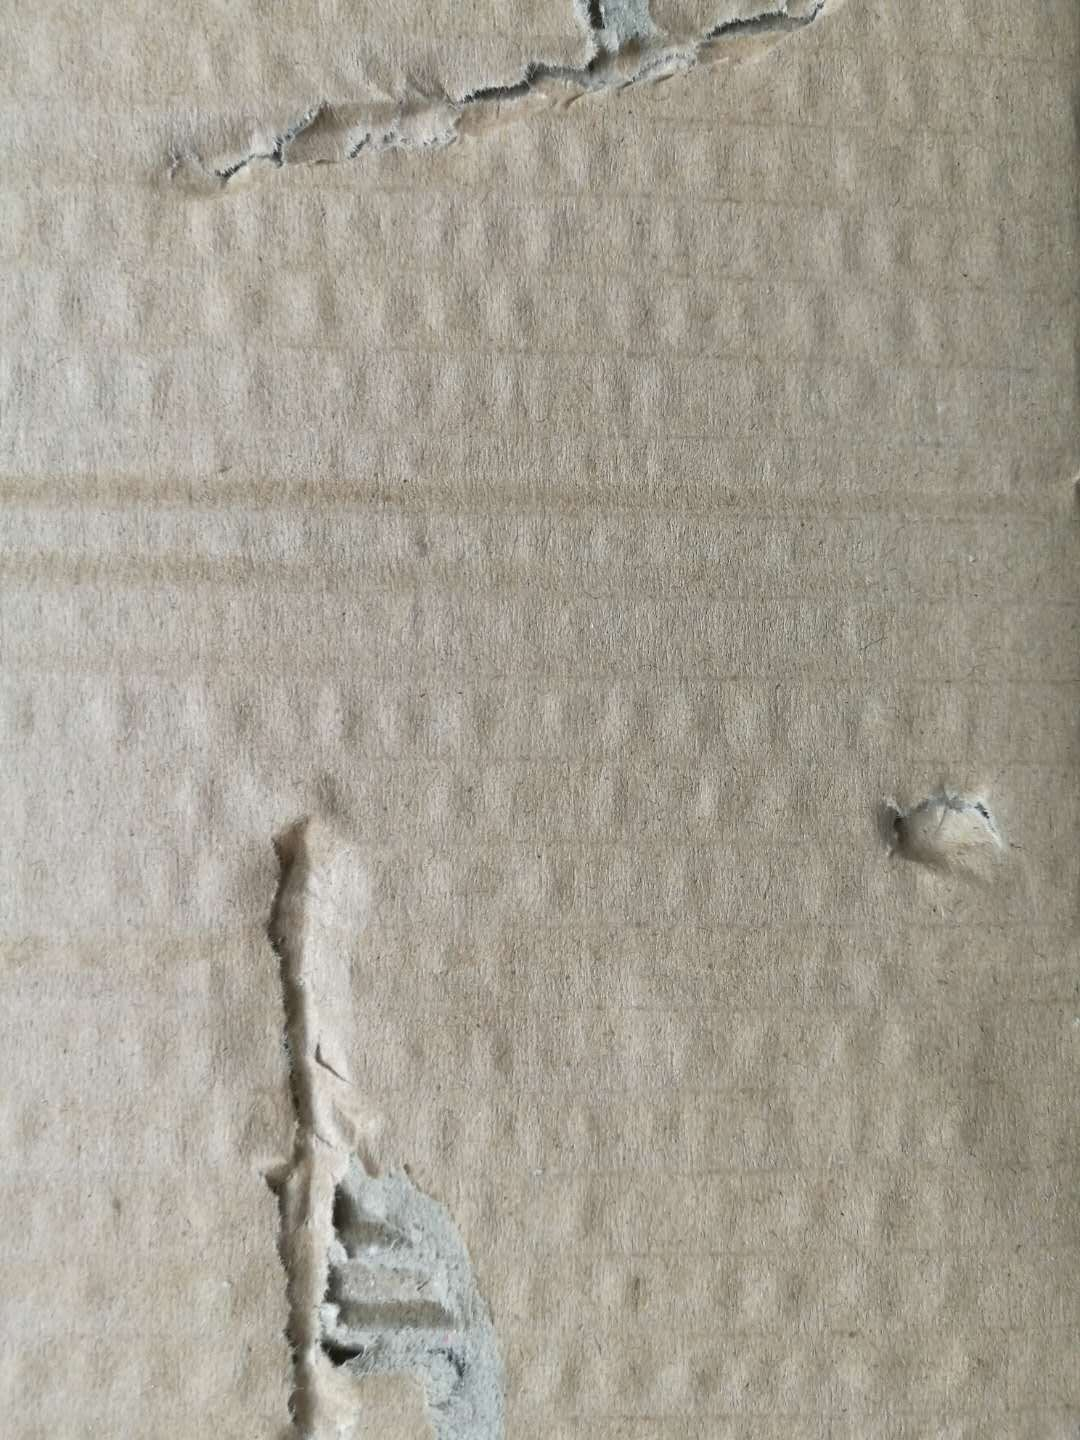defect: (155, 776, 563, 1440), (106, 2, 881, 215), (849, 735, 1062, 938)
